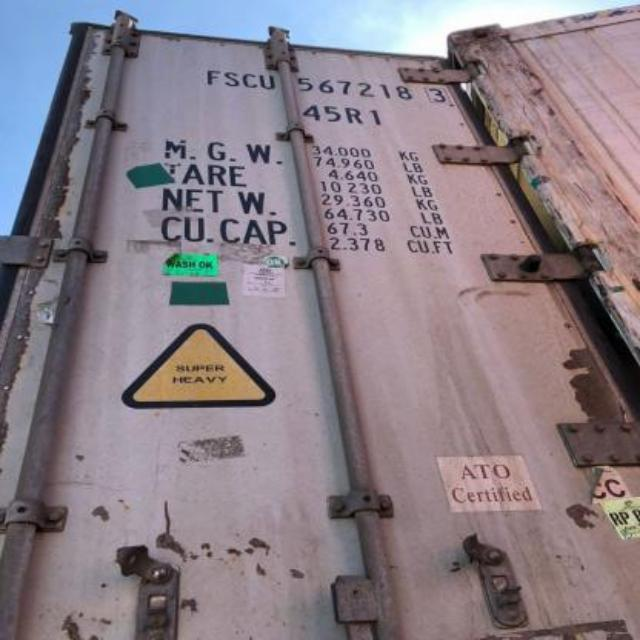1: (376, 76, 392, 102)
2: (355, 75, 373, 101)
3: (426, 82, 449, 104)
5: (295, 73, 315, 97)
6: (318, 70, 332, 98)
7: (337, 74, 355, 98)
8: (396, 81, 416, 107)
C: (242, 68, 260, 94)
F: (202, 62, 222, 88)
S: (224, 64, 240, 90)
U: (260, 70, 276, 94)
